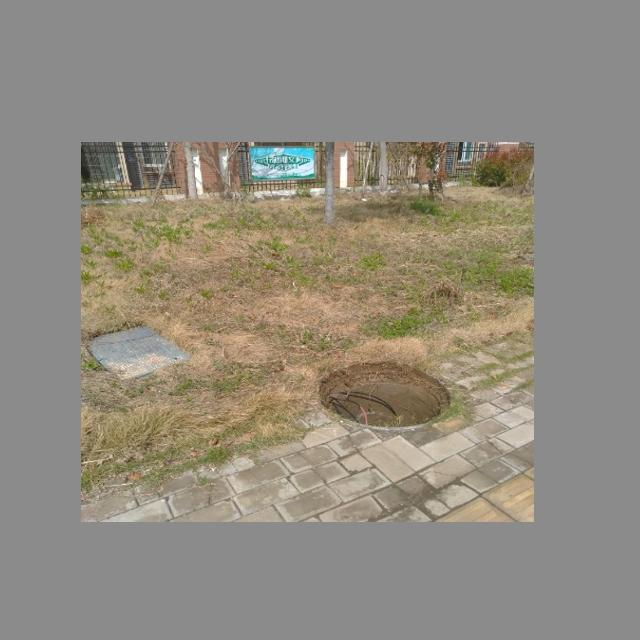lose: (310, 354, 454, 428)
